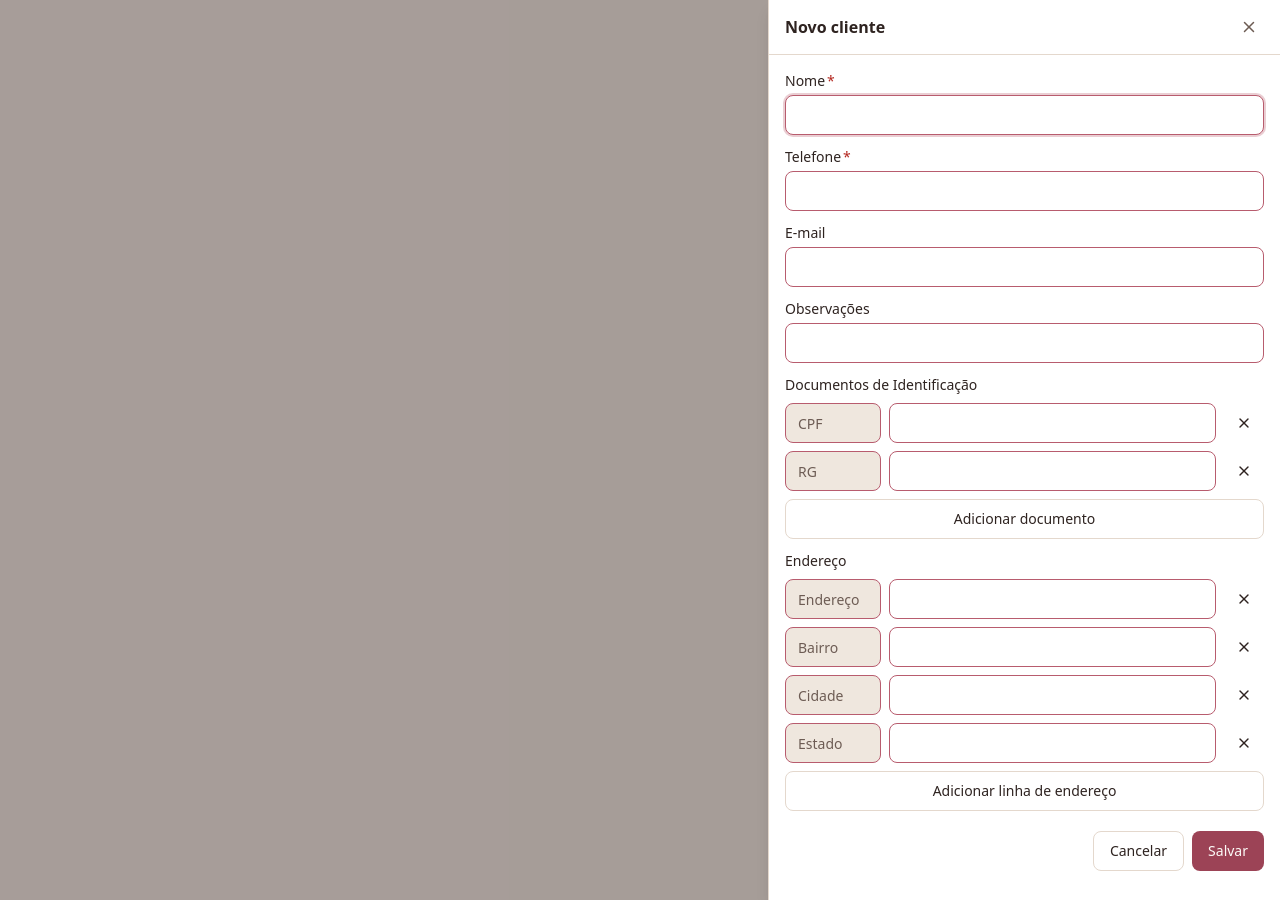
Scenario: ClientDrawer › shows a translated error and does not close the drawer when creating a client fails
Type "Nova Cliente" into the field labelled "Nome".
click(1024, 115); type("Nova Cliente")  # box [785,95,1264,135]
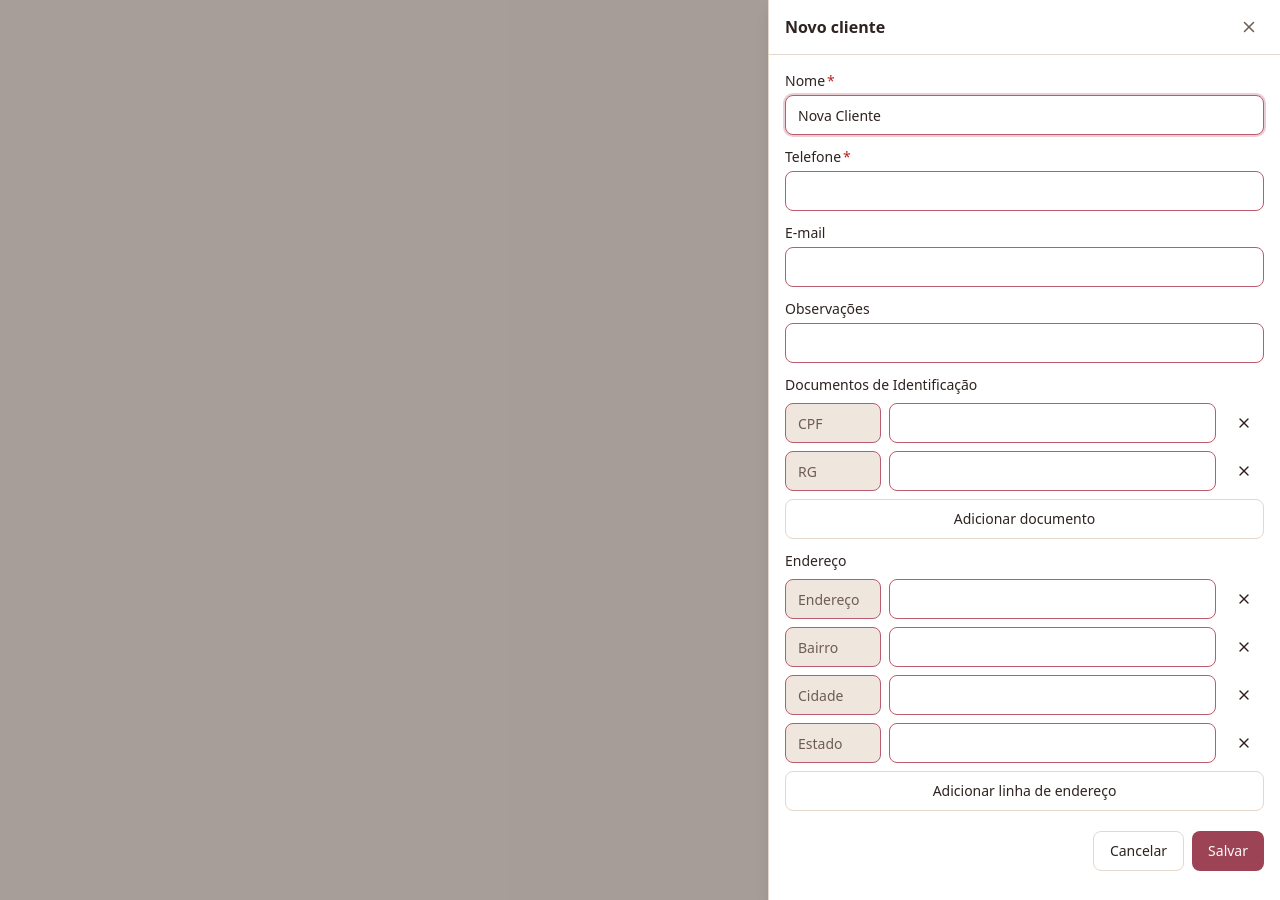
Type "11999999999" into the field labelled "Telefone".
click(1024, 191); type("11999999999")  # box [785,171,1264,211]
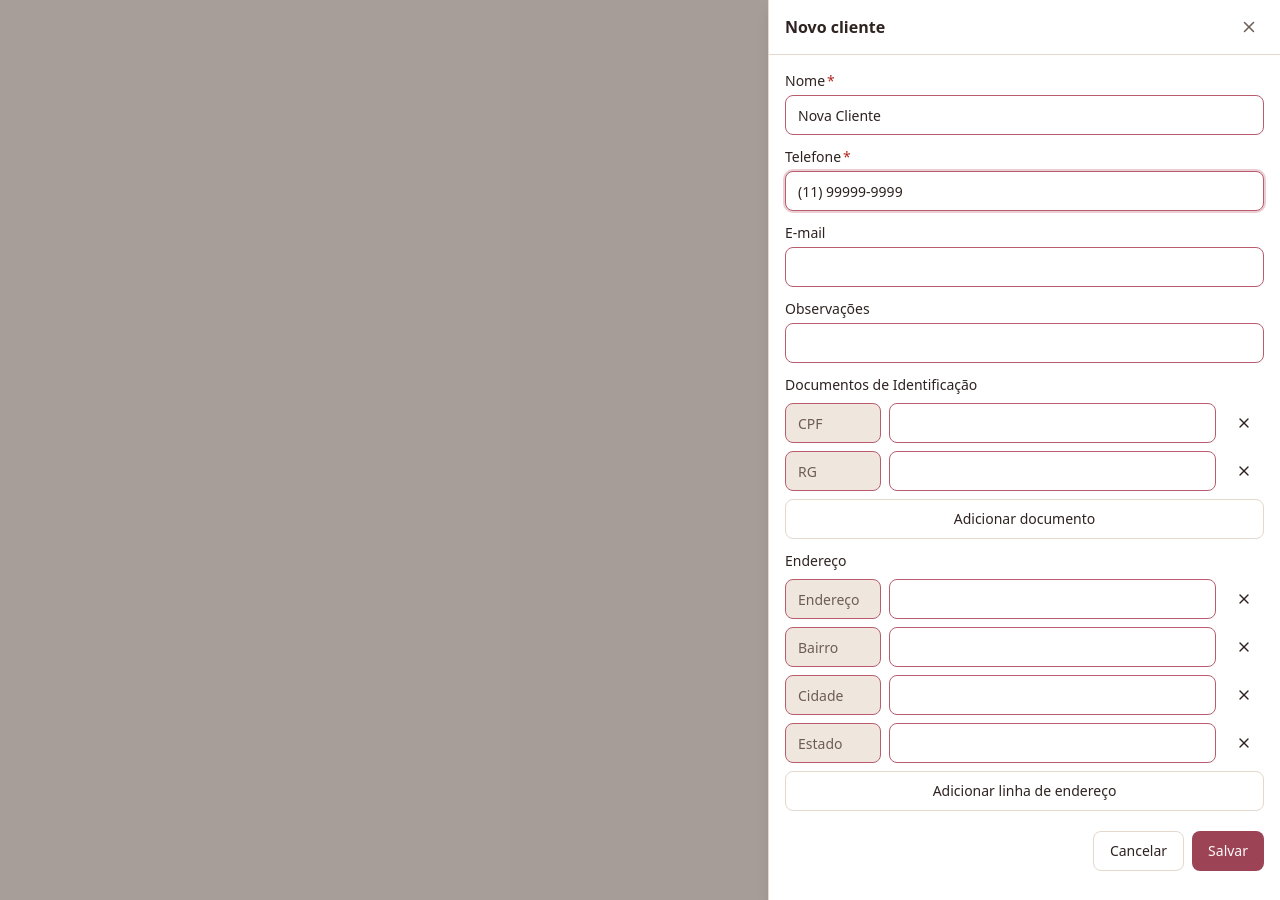
Type "nova@example.com" into the field labelled "E-mail".
click(1024, 267); type("nova@example.com")  # box [785,247,1264,287]
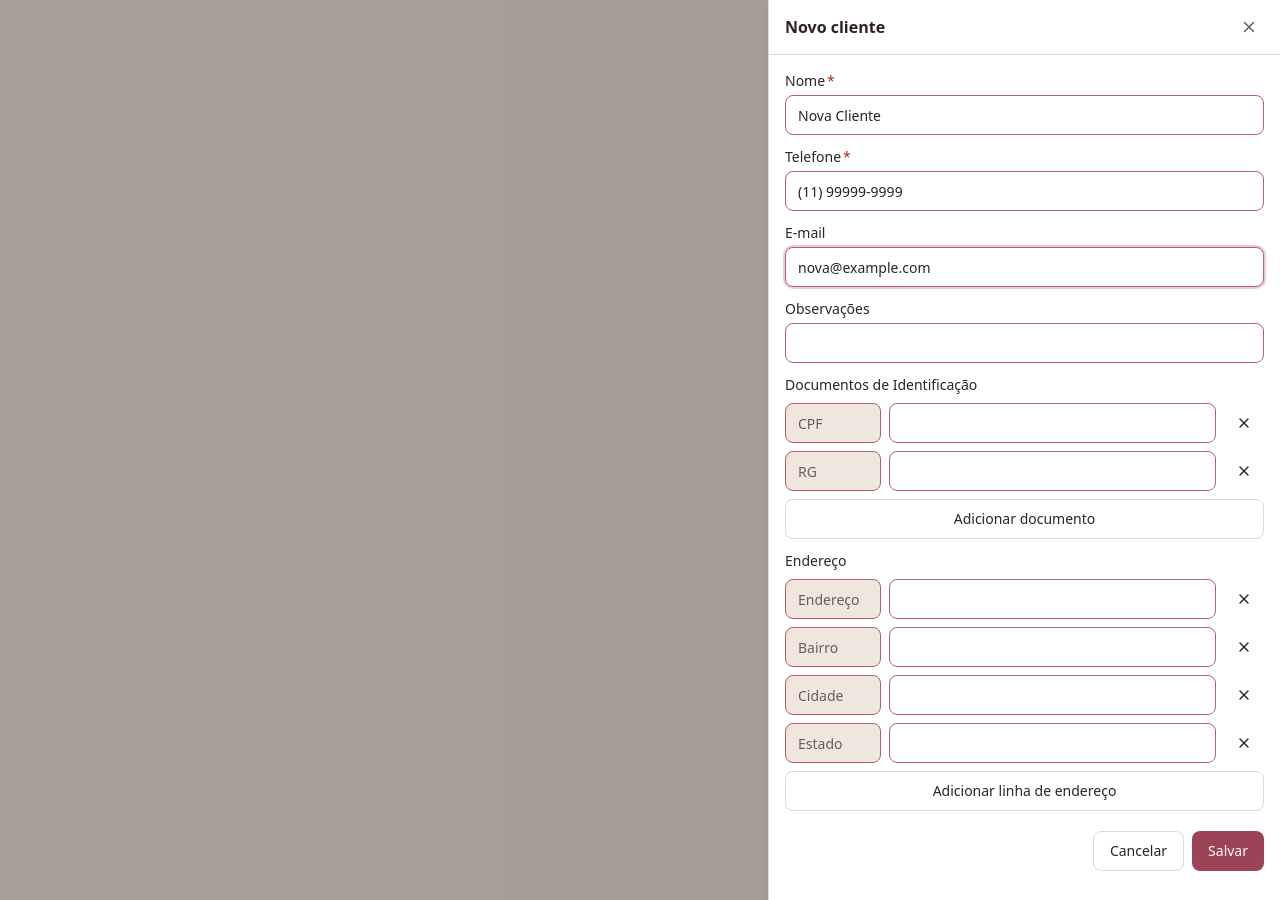
Click the button "Salvar".
click(1228, 851)  # box [1192,831,1264,871]
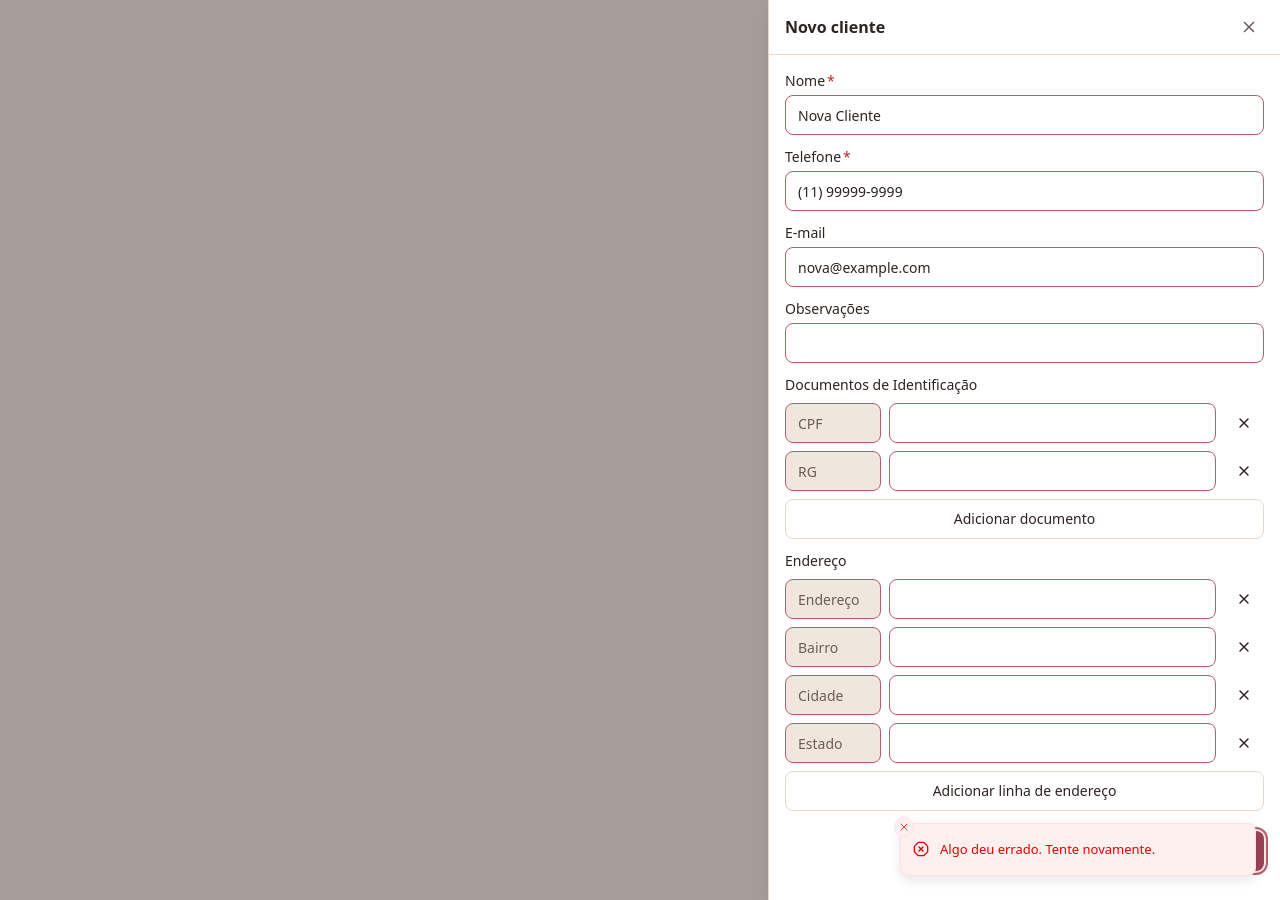
Result: the text "Algo deu errado. Tente novamente." is shown at [940,840,1155,859]
